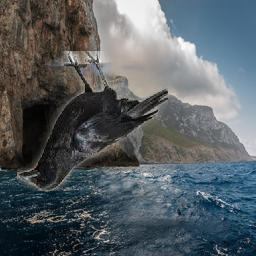Crow: (18, 51, 169, 191)
